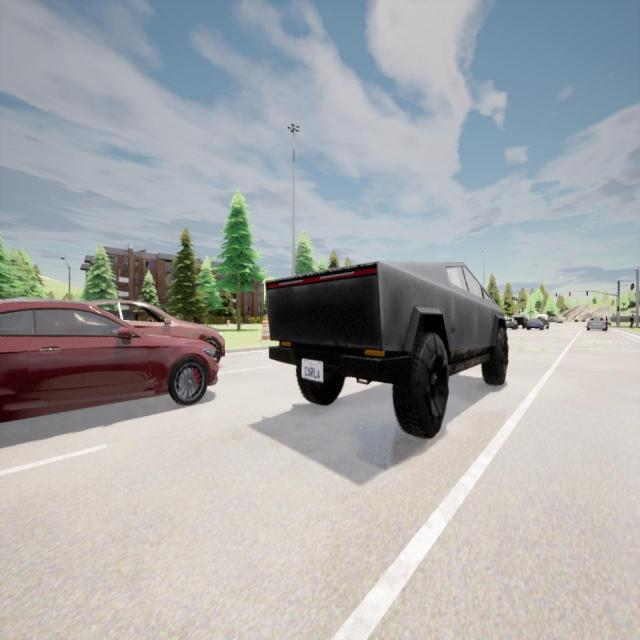Pedestrian: (630, 314, 634, 328), (606, 316, 608, 330)
Vehicle: (265, 260, 508, 436), (0, 299, 218, 418), (83, 301, 225, 363), (586, 316, 606, 331), (512, 314, 526, 330), (536, 314, 550, 330), (526, 318, 544, 330), (505, 319, 517, 329), (556, 320, 562, 324), (575, 319, 578, 322)
traffic_light: (617, 306, 619, 311), (569, 292, 571, 297), (586, 291, 588, 296), (556, 292, 557, 298)
